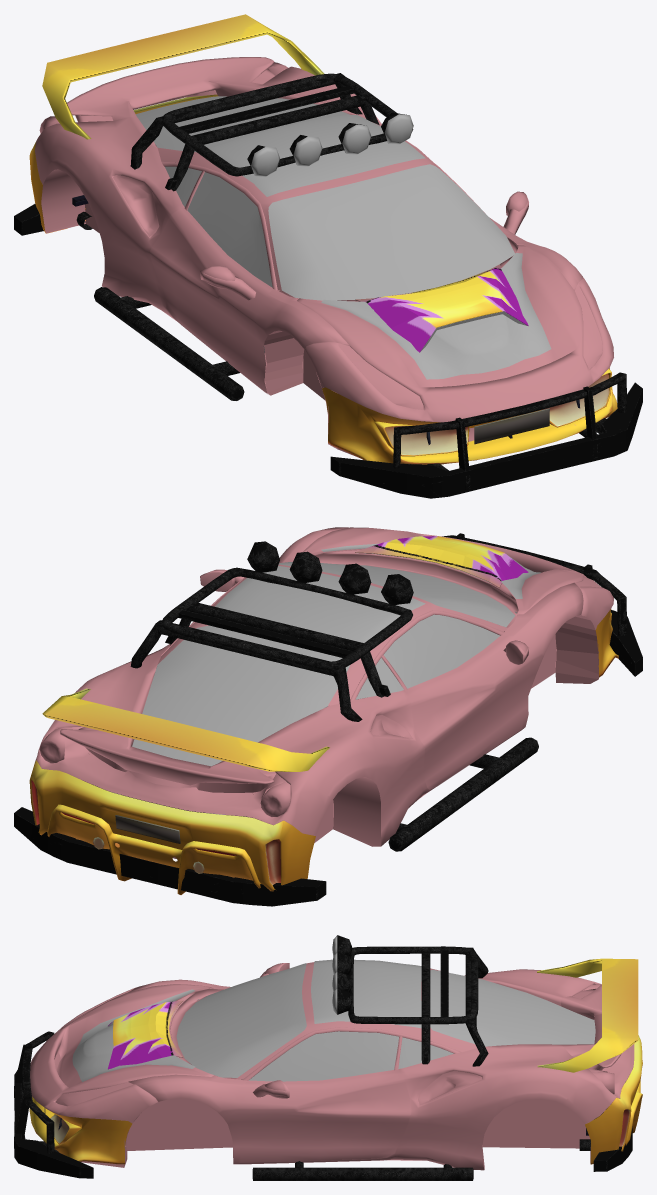
The model's file is Ferrari_488_1.fbx.
The picture shows the model from 3 angles, top to bottom: view 1: azimuth 30°, elevation 25°; view 2: azimuth 150°, elevation 25°; view 3: azimuth 270°, elevation 25°; orthographic projection. The views are drawn at different scales.
Parts seen in each view (by area): view 1: polySurface10, pasted__pasted__polySurface31, ferrari_carbon2, pasted__pasted__polySurface33, bumperFront, spoiler, exportobj2:ferrari_airtake, bumperBack; view 2: polySurface10, pasted__pasted__polySurface31, bumperBack, pasted__pasted__polySurface33, ferrari_carbon2, spoiler, exportobj2:ferrari_airtake, bumperFront; view 3: polySurface10, pasted__pasted__polySurface31, ferrari_carbon2, spoiler, pasted__pasted__polySurface33, bumperFront, exportobj2:ferrari_airtake, bumperBack.
Part boxes in pixels (<box>): polySurface10: <box>35,57,613,457</box>; pasted__pasted__polySurface31: <box>94,73,413,400</box>; ferrari_carbon2: <box>209,115,551,379</box>; pasted__pasted__polySurface33: <box>14,204,642,498</box>; bumperFront: <box>322,368,617,464</box>; spoiler: <box>42,14,324,139</box>; exportobj2:ferrari_airtake: <box>355,264,528,352</box>; bumperBack: <box>29,94,218,233</box>; polySurface10: <box>35,527,613,858</box>; pasted__pasted__polySurface31: <box>130,541,538,851</box>; bumperBack: <box>29,760,315,894</box>; pasted__pasted__polySurface33: <box>14,533,642,906</box>; ferrari_carbon2: <box>215,543,540,642</box>; spoiler: <box>42,688,329,771</box>; exportobj2:ferrari_airtake: <box>355,536,528,587</box>; bumperFront: <box>595,609,618,677</box>; polySurface10: <box>30,962,634,1170</box>; pasted__pasted__polySurface31: <box>252,935,488,1180</box>; ferrari_carbon2: <box>72,959,421,1081</box>; spoiler: <box>537,958,638,1072</box>; pasted__pasted__polySurface33: <box>14,1031,632,1178</box>; bumperFront: <box>29,1097,132,1164</box>; exportobj2:ferrari_airtake: <box>108,1000,183,1069</box>; bumperBack: <box>585,1035,642,1164</box>.
Size of the model in its own units: 226 by 135 by 469.
